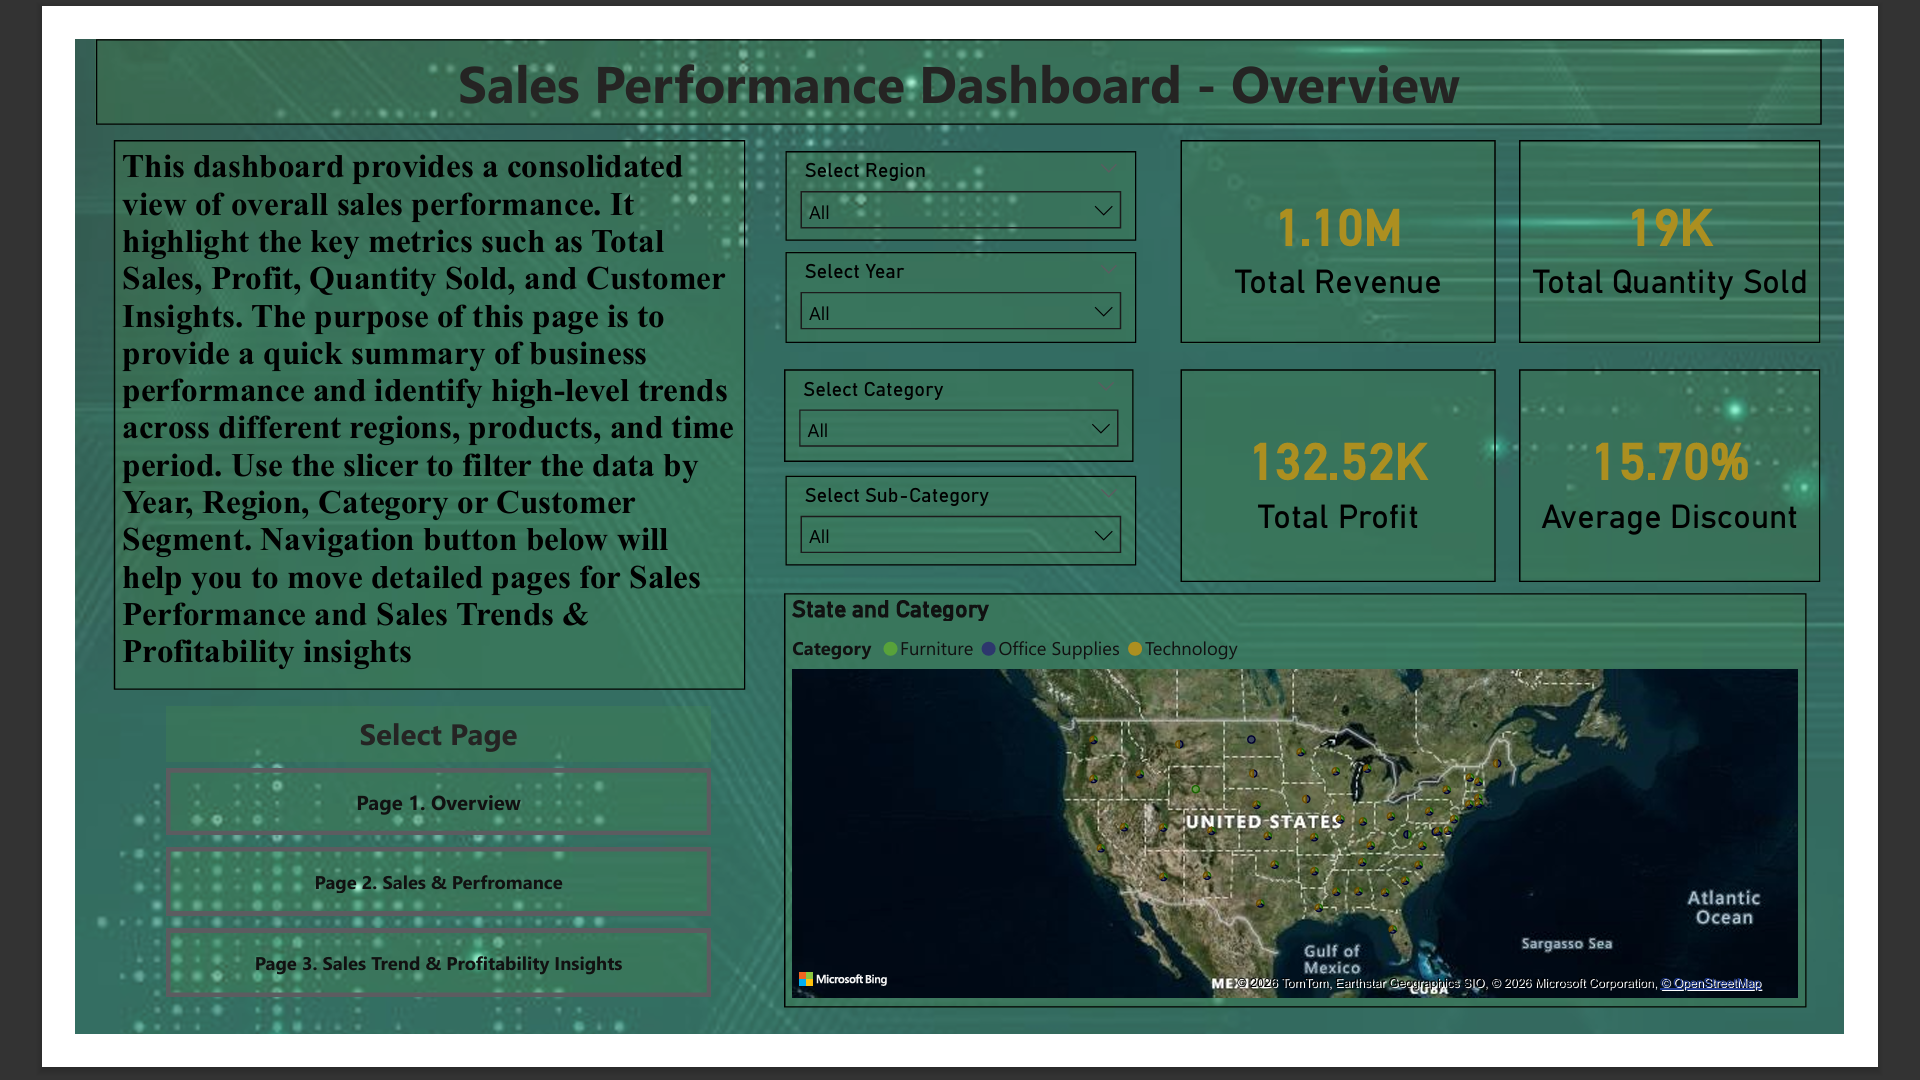

What the dashboard file says about the page in this screenshot:
{"tool":"powerbi","page":{"name":"Overview","canvas":[1280,720],"ordinal":0},"visuals":[{"type":"textbox","box":[14.9,0,1249.1,62.5],"z":0},{"type":"textbox","box":[28.3,72.9,456.5,398.5],"z":1},{"type":"slicer","fields":{"Values":["Sample - Superstore.Region"]},"box":[513.8,81.2,253.8,65],"z":2},{"type":"slicer","fields":{"Values":["DateTable.Year"]},"box":[513.8,153.8,253.8,66.2],"z":3},{"type":"slicer","fields":{"Values":["Sample - Superstore.Category"]},"box":[512.5,238.8,253.8,67.5],"z":4},{"type":"slicer","fields":{"Values":["Sample - Superstore.Sub-Category"]},"box":[513.8,316.2,253.8,65],"z":5},{"type":"card","title":" Total Sales","fields":{"Values":["Sample - Superstore.Total Revenue"]},"box":[800,73.4,227.8,146.8],"z":6},{"type":"card","title":" Total Sales","fields":{"Values":["Sample - Superstore.Total Profit"]},"box":[800,239.1,227.8,154.4],"z":7},{"type":"card","title":" Total Sales","fields":{"Values":["Sample - Superstore.Total Quantity Sold"]},"box":[1044.7,73.4,218.4,146.8],"z":8},{"type":"card","title":" Total Sales","fields":{"Values":["Sample - Superstore.Average Discount"]},"box":[1044.7,239.1,218.4,154.4],"z":9},{"type":"map","fields":{"Category":["Sample - Superstore.State","Sample - Superstore.City"],"Series":["Sample - Superstore.Category"]},"box":[512.5,401.2,740,300],"z":10},{"type":"textbox","box":[66.2,482.5,393.8,40],"z":11},{"type":"actionButton","box":[66.2,527.5,393.8,48.8],"z":12},{"type":"actionButton","box":[66.2,585,393.8,48.8],"z":13},{"type":"actionButton","box":[66.2,643.8,393.8,48.8],"z":14}]}

Visuals, with their boxes in screenshot pixels (x1, y1, x2, y2), scaled from the page's 1280x720 canvas onto the 1920x1080 screenshot:
textbox: rect(22, 0, 1896, 94)
textbox: rect(42, 109, 727, 707)
slicer - Sample - Superstore.Region: rect(771, 122, 1151, 219)
slicer - DateTable.Year: rect(771, 231, 1151, 330)
slicer - Sample - Superstore.Category: rect(769, 358, 1149, 459)
slicer - Sample - Superstore.Sub-Category: rect(771, 474, 1151, 572)
" Total Sales" card: rect(1200, 110, 1542, 330)
" Total Sales" card: rect(1200, 359, 1542, 590)
" Total Sales" card: rect(1567, 110, 1895, 330)
" Total Sales" card: rect(1567, 359, 1895, 590)
map - Sample - Superstore.State x Sample - Superstore.City: rect(769, 602, 1879, 1052)
textbox: rect(99, 724, 690, 784)
actionButton: rect(99, 791, 690, 864)
actionButton: rect(99, 878, 690, 951)
actionButton: rect(99, 966, 690, 1039)
